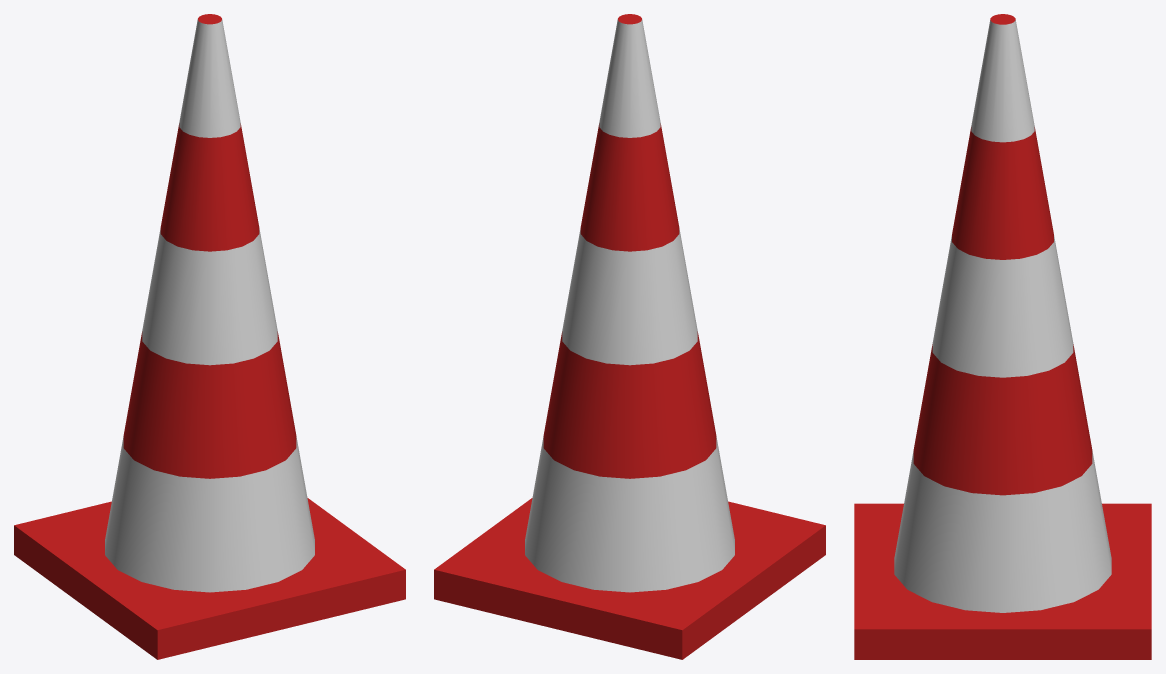
Rendered from Cone_M_v1_Carrie.FBX.
3 renders of one model, left to right at view 1: azimuth 30°, elevation 25°; view 2: azimuth 150°, elevation 25°; view 3: azimuth 270°, elevation 25°, orthographic. The views are drawn at different scales.
Visible parts, largest first — view 1: cone; view 2: cone; view 3: cone.
Part boxes in pixels (left/top/right/bottom): cone: left=14, top=14, right=405, bottom=659; cone: left=434, top=14, right=825, bottom=659; cone: left=854, top=14, right=1151, bottom=659.
Size of the model in its own units: 88.9 by 191 by 88.9.
